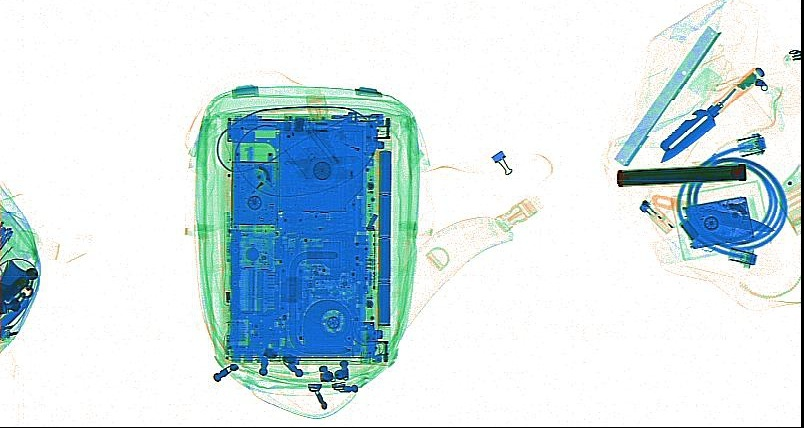knife: (658, 67, 764, 165), (648, 193, 776, 233), (242, 154, 359, 172)
lighter: (639, 199, 674, 234)
